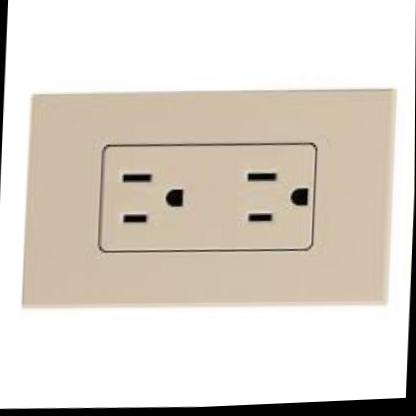OUTLET: (21, 76, 396, 321)
